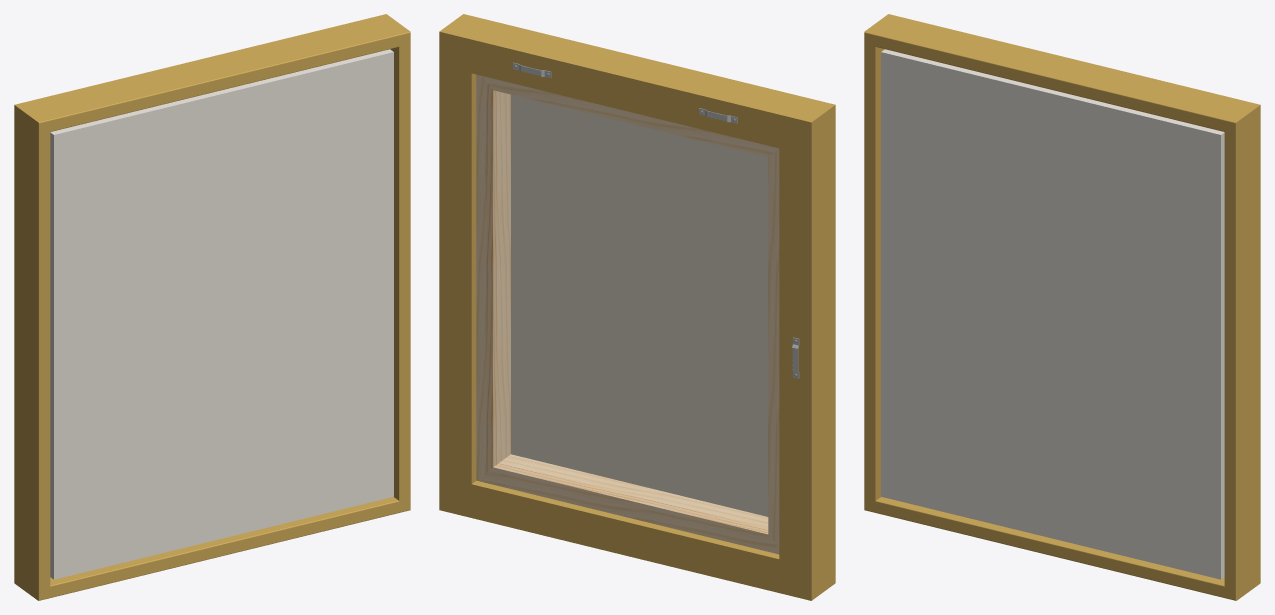
Rendered from decoded-from-delivery.glb.
3 renders of one model, left to right at view 1: azimuth 30°, elevation 25°; view 2: azimuth 150°, elevation 25°; view 3: azimuth 330°, elevation 25°, orthographic.
Visible parts, largest first — view 1: Canvas artwork front, Tray approved profile 0; view 2: Canvas linen reverse, Tray approved profile 0, Stretcher top, Sawtooth hanger 0; view 3: Canvas artwork front, Tray approved profile 0.
Boxes of the visible parts, x1,y1,x2,y2 form: Canvas artwork front: (50,49,393,579); Tray approved profile 0: (14,14,410,600); Canvas linen reverse: (511,94,768,516); Tray approved profile 0: (439,14,835,600); Stretcher top: (476,74,779,554); Sawtooth hanger 0: (513,62,799,378); Canvas artwork front: (881,49,1224,579); Tray approved profile 0: (864,14,1260,600).
Bounding box in the file's own units: 0.438 × 0.538 × 0.0524.
Materials: 7 (2 with a texture image).
